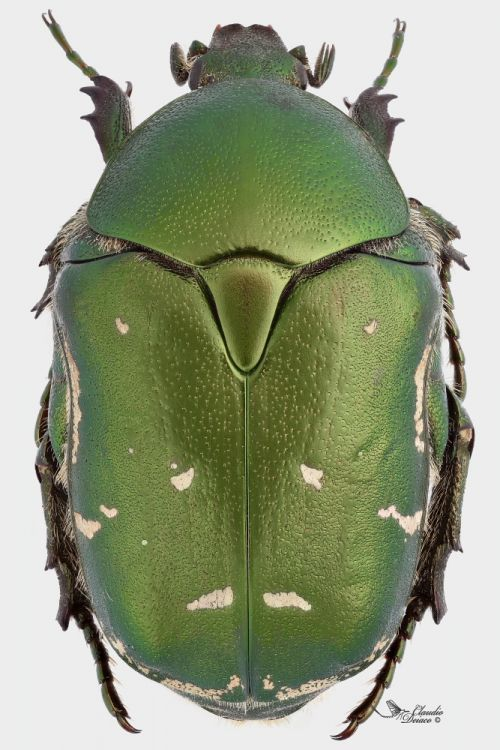Protaetia_ungarica: (35, 4, 477, 742)
